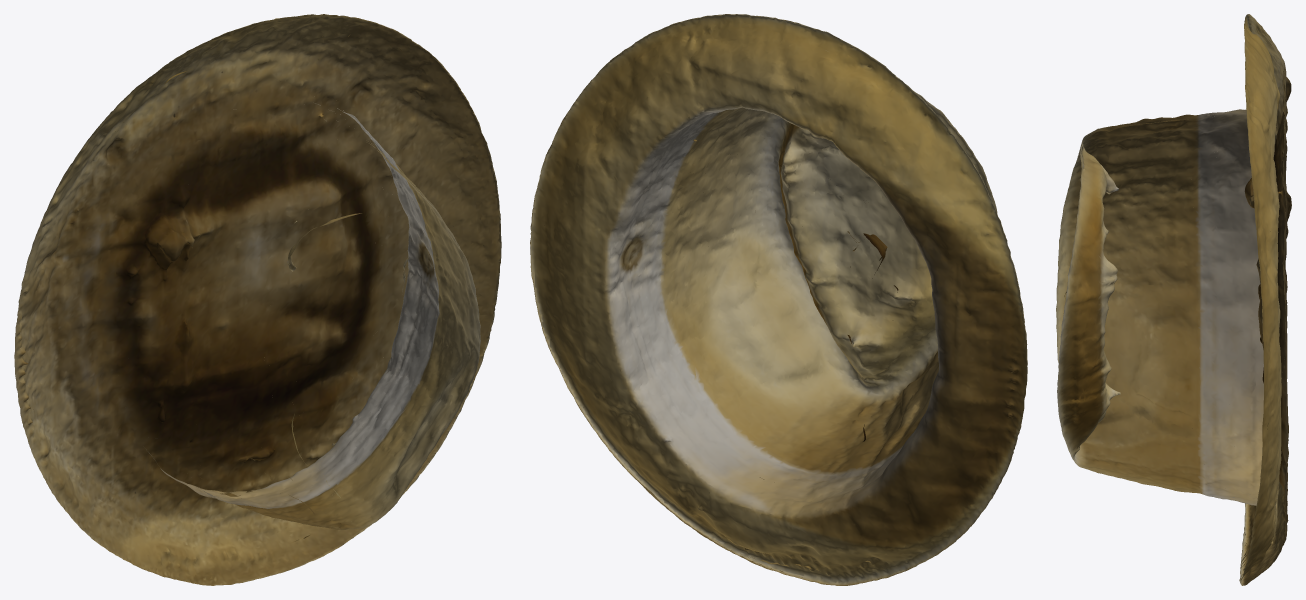
The model's file is hat.glb.
The picture shows the model from 3 angles, left to right: view 1: azimuth 30°, elevation 25°; view 2: azimuth 150°, elevation 25°; view 3: azimuth 270°, elevation 25°; orthographic projection. The views are drawn at different scales.
Size of the model in its own units: 0.9267 by 1 by 0.4073.
